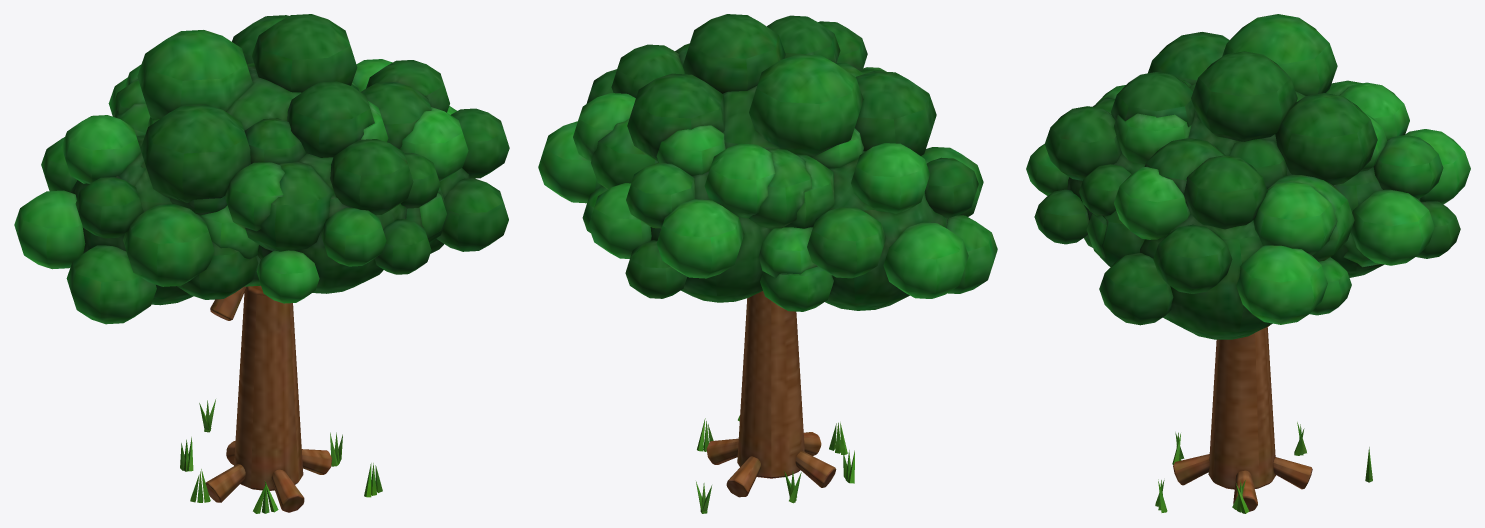
Rendered from mango_tree.glb.
3 renders of one model, left to right at view 1: azimuth 30°, elevation 25°; view 2: azimuth 150°, elevation 25°; view 3: azimuth 270°, elevation 25°, orthographic. The views are drawn at different scales.
Visible parts, largest first — view 1: crown, mango_tree; view 2: crown, mango_tree; view 3: crown, mango_tree.
Part boxes in pixels (bbox=[...]): crown: bbox=[14, 14, 509, 324]; mango_tree: bbox=[180, 285, 382, 513]; crown: bbox=[538, 14, 997, 311]; mango_tree: bbox=[696, 291, 854, 513]; crown: bbox=[1026, 14, 1470, 339]; mango_tree: bbox=[1155, 325, 1372, 513].
Bounding box in the file's own units: 1.3 × 1.3 × 1.17.
1 material, 1 textured.
